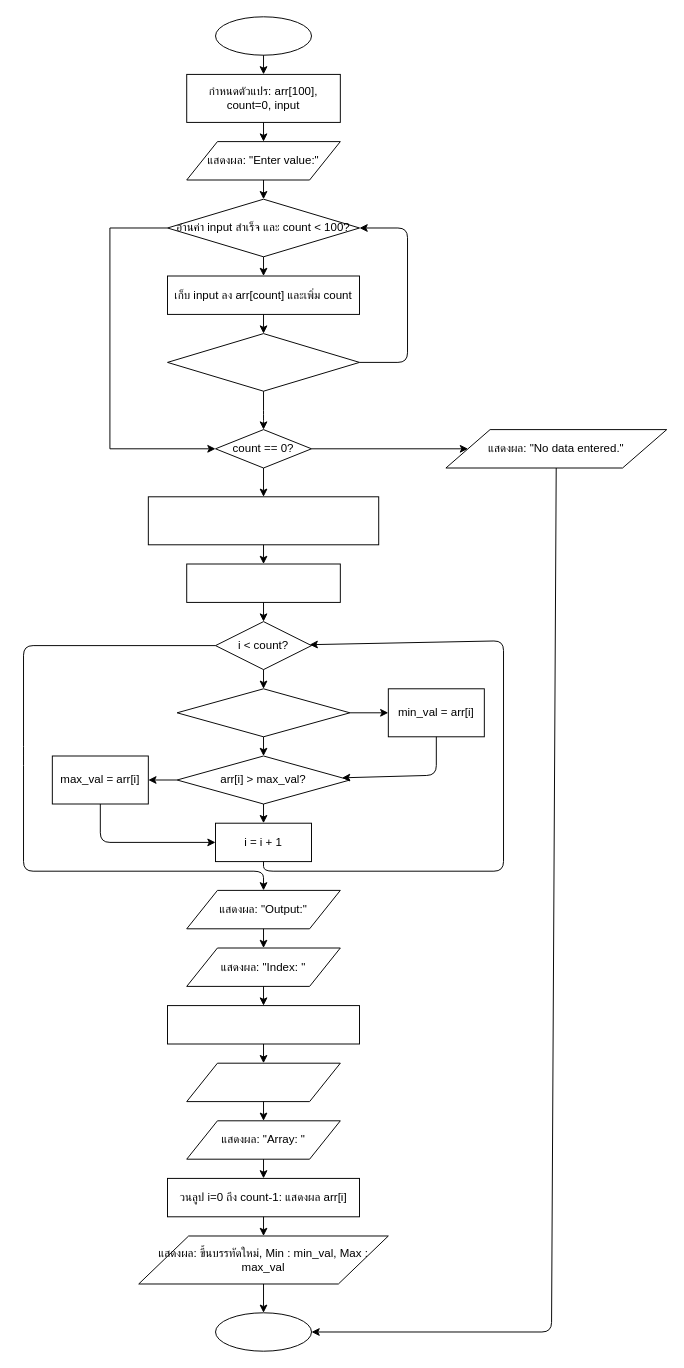
This 684x1368 diagram has some shape labels left out. The shapes that lost their labels are listed below. From the top down, each one's centre as x and y in pixels, then its label:
point (263, 35): เริ่ม (Start)
point (263, 362): อ่านอักขระถัดไปเป็น '\n' (Enter)?
point (263, 520): กำหนด min_val = INT_MAX และ max_val = INT_MIN
point (263, 582): กำหนด i = 0
point (263, 712): arr[i] < min_val?
point (263, 1024): วนลูป i=0 ถึง count-1: แสดงผล Index i
point (263, 1082): แสดงผล: ขึ้นบรรทัดใหม่
point (263, 1331): จบ (Stop)
